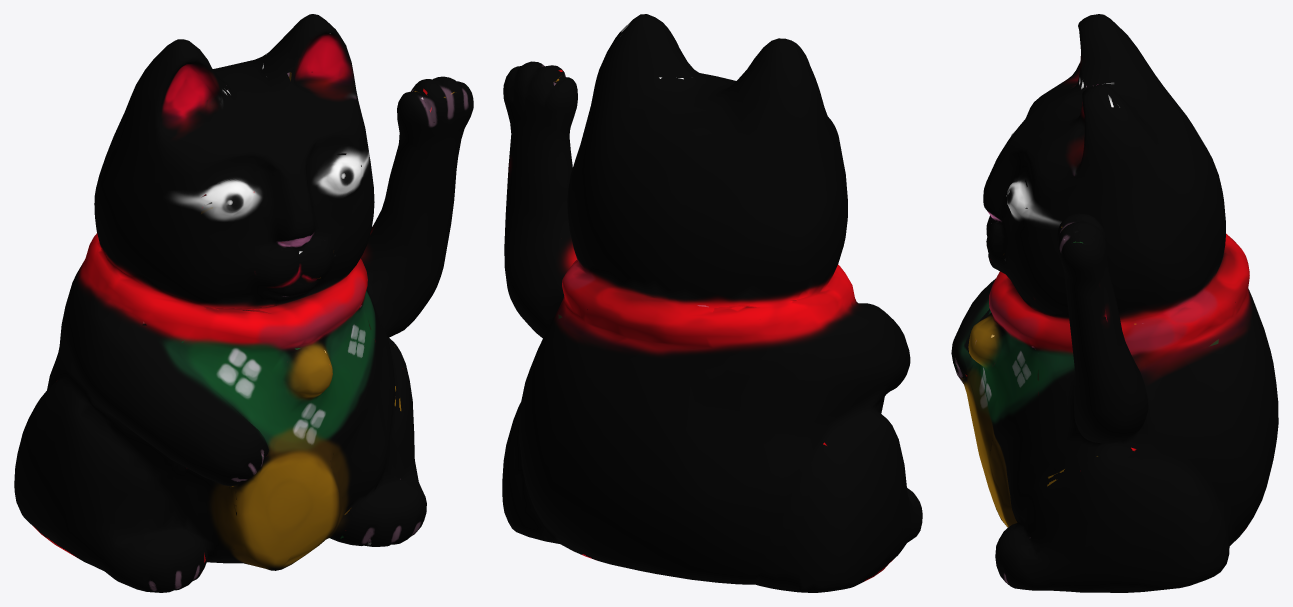
File: nekoBot.glb
3 views of the same model, side by side, from view 1: azimuth 30°, elevation 25°; view 2: azimuth 150°, elevation 25°; view 3: azimuth 270°, elevation 25° (orthographic). The views are drawn at different scales.
Parts seen in each view (by area): view 1: neko_head_meshed_sm v2; view 2: neko_head_meshed_sm v2; view 3: neko_head_meshed_sm v2.
Boxes of the visible parts, x1,y1,x2,y2 form: neko_head_meshed_sm v2: [14, 14, 473, 592]; neko_head_meshed_sm v2: [502, 14, 922, 592]; neko_head_meshed_sm v2: [951, 14, 1278, 592].
Bounding box in the file's own units: 1.41 × 1.7 × 1.04.
Materials: 1 (1 with a texture image).
